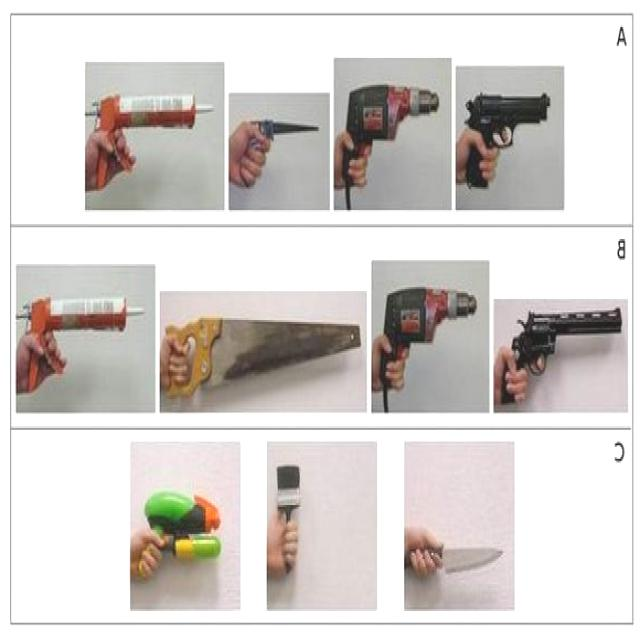pistol: (500, 301, 624, 403), (466, 81, 550, 200)
